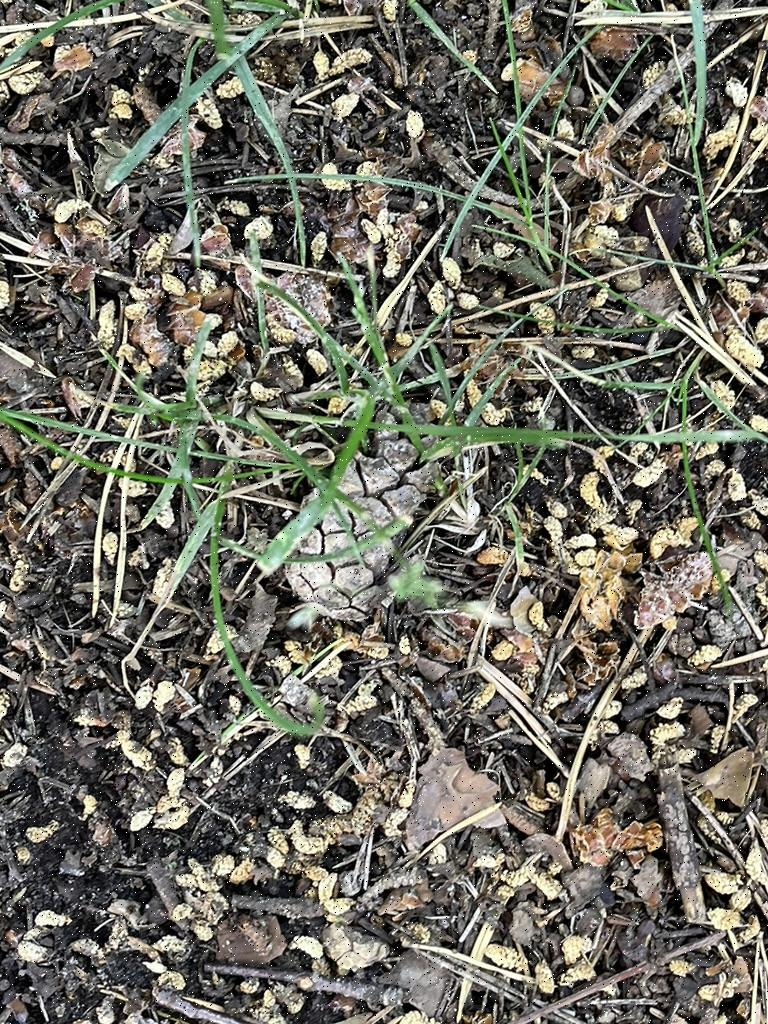pine: (278, 428, 446, 630)
